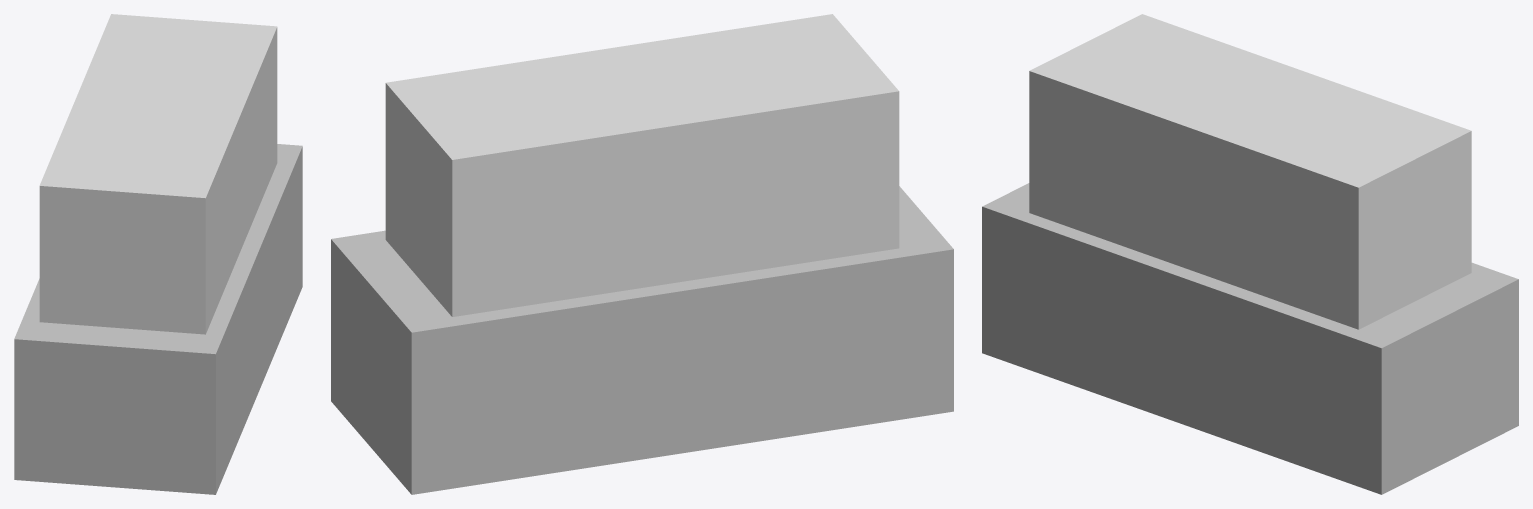
The model's file is CristaisGrandes.gltf.
3 renders of one model, left to right at view 1: azimuth 30°, elevation 25°; view 2: azimuth 150°, elevation 25°; view 3: azimuth 270°, elevation 25°, orthographic. The views are drawn at different scales.
Parts seen in each view (by area): view 1: Expositor_Base.008; view 2: Expositor_Base.008; view 3: Expositor_Base.008.
Boxes of the visible parts, x1,y1,x2,y2 form: Expositor_Base.008: [14, 14, 302, 494]; Expositor_Base.008: [331, 14, 953, 494]; Expositor_Base.008: [982, 14, 1518, 494].
Bounding box in the file's own units: 2.61 × 1.66 × 2.8.
Materials: 1 (1 with a texture image).
